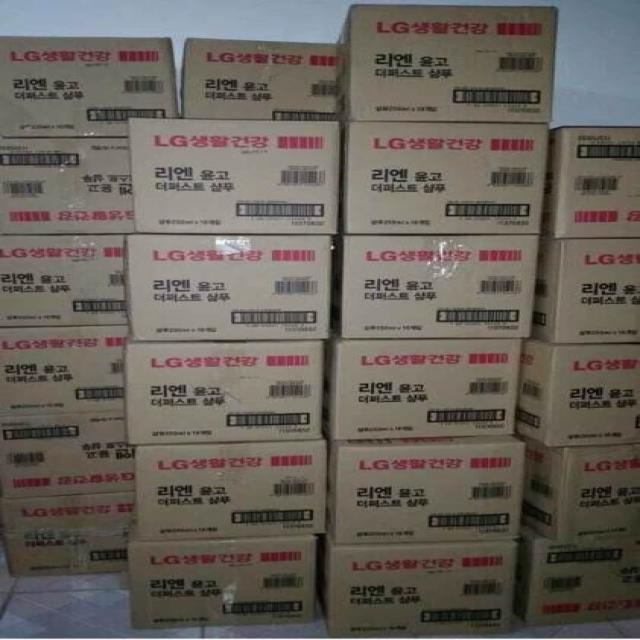box: (337, 4, 561, 124), (129, 119, 341, 234), (339, 122, 547, 234), (125, 233, 337, 341), (325, 435, 526, 544), (337, 234, 540, 340), (123, 340, 325, 445), (319, 537, 520, 640), (327, 338, 520, 440), (135, 440, 328, 542), (0, 37, 179, 137), (128, 535, 318, 628), (515, 339, 640, 447), (181, 38, 341, 121), (0, 137, 135, 235), (515, 528, 640, 626), (0, 233, 128, 328), (523, 440, 640, 543), (0, 410, 135, 499), (0, 325, 129, 417), (531, 236, 640, 344), (538, 125, 640, 238), (3, 492, 135, 578)
